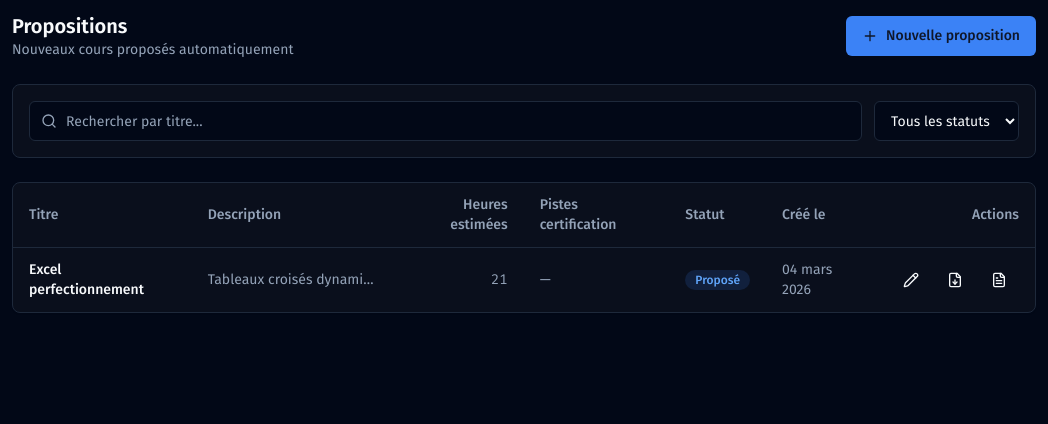
Scenario: Page Propositions — bouton export › signale l’échec d’un export Word avec son propre message
This screenshot has width=1048, height=424.
Check: the text "Excel perfectionnement" is shown, box [13, 248, 192, 312]
Step 1. Click the button named "en Word" → (999, 280), box [979, 260, 1019, 300]
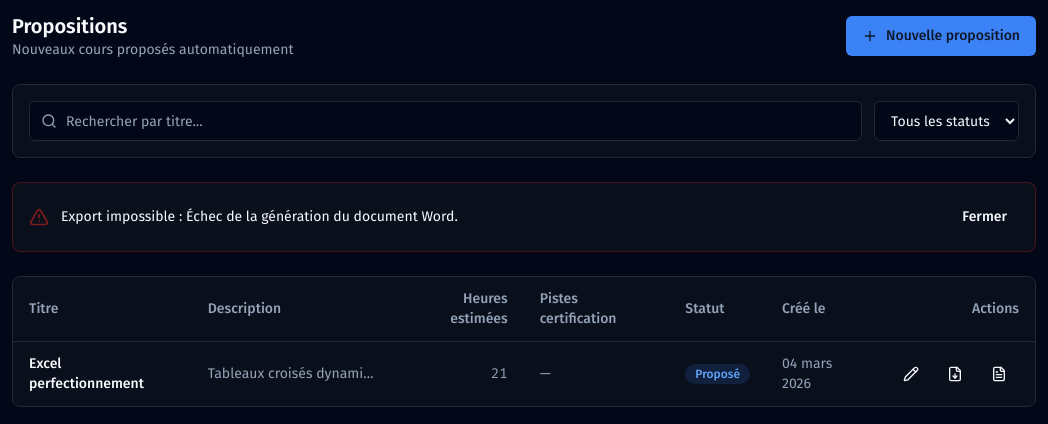
Check: the text "Export impossible : Échec de la génération du document Word." is shown, box [61, 207, 458, 227]
